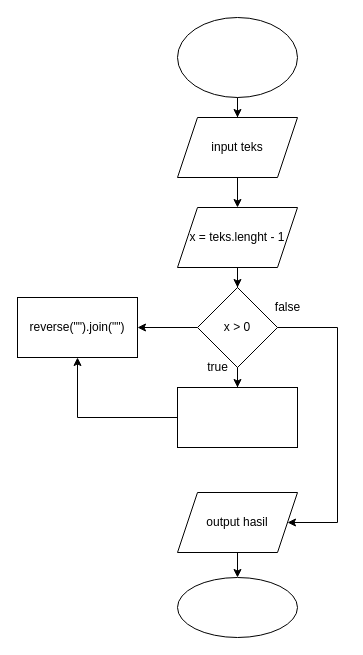
Image size: 363x655. Some labels were removed from this diagram. Here are the shapes that lost their labels. From the top down, the box of each, then its label:
(176, 16, 298, 98): start
(176, 386, 298, 448): text.split("x")
(176, 576, 298, 638): selesai
